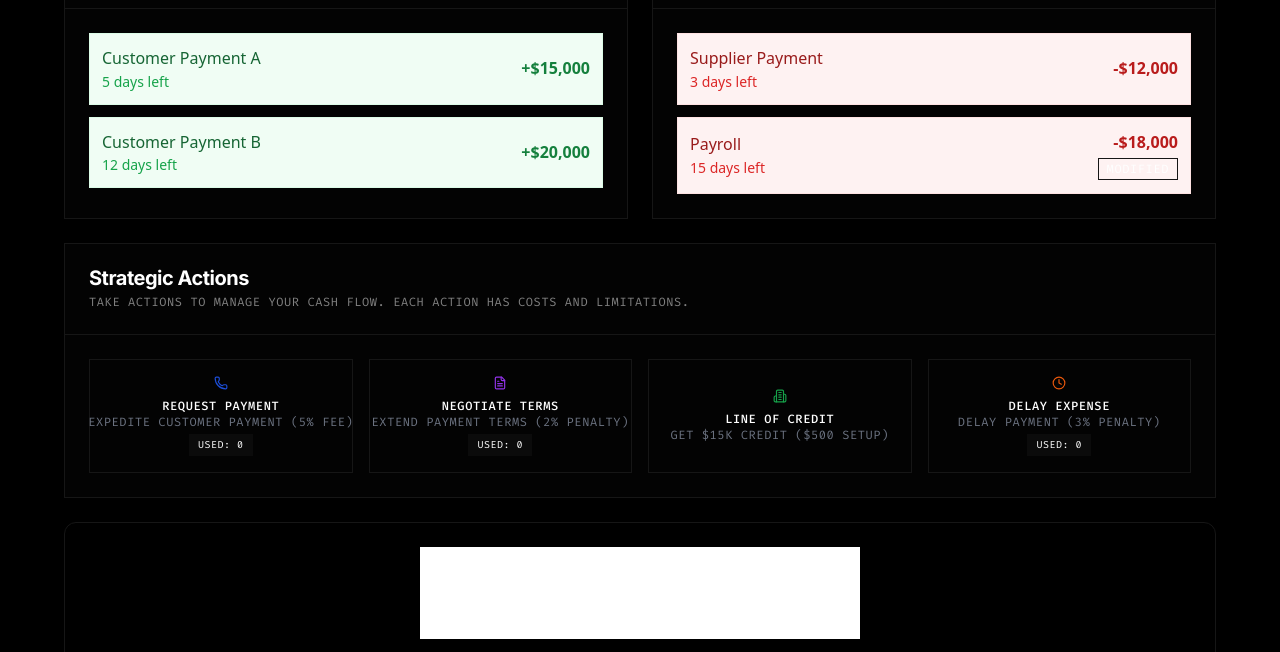
Scenario: CashFlowChallenge › allows establishing line of credit
(page scrolled)
Click the button "Line of Credit Get $15k credit ($500 setup)" at (780, 416), box [648,359,912,473]
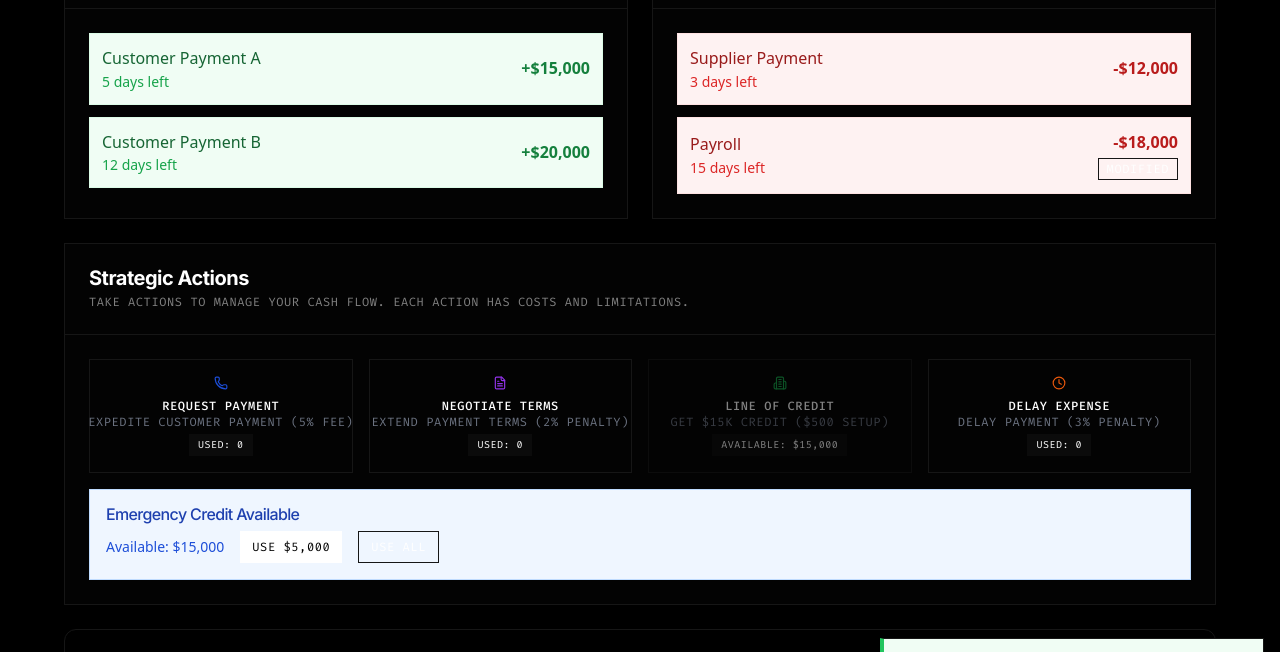
Expected: the 1st text "Available: $15,000" is shown, [712,434,847,456]
